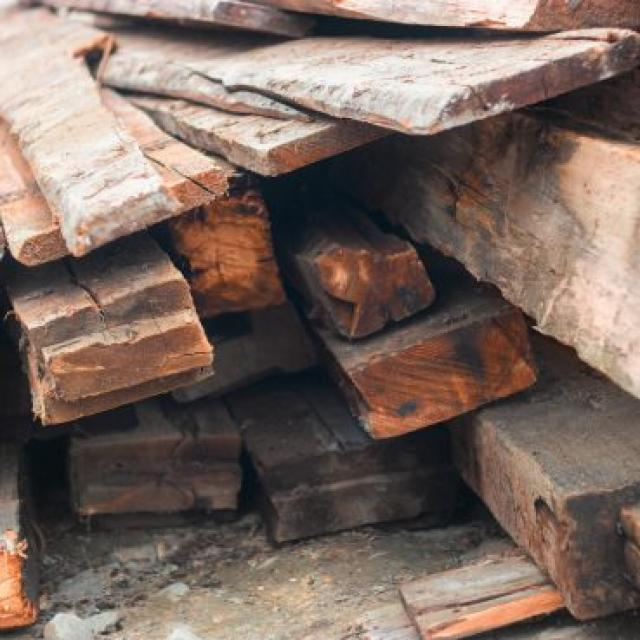green waste: (5, 4, 631, 633)
